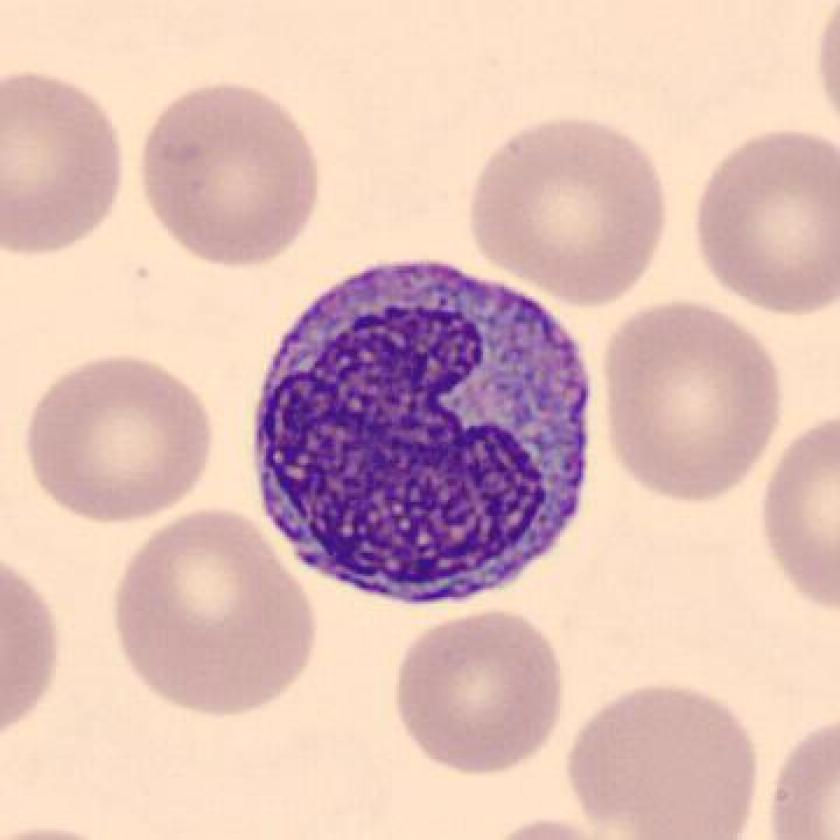monocyte: (232, 242, 617, 621)
